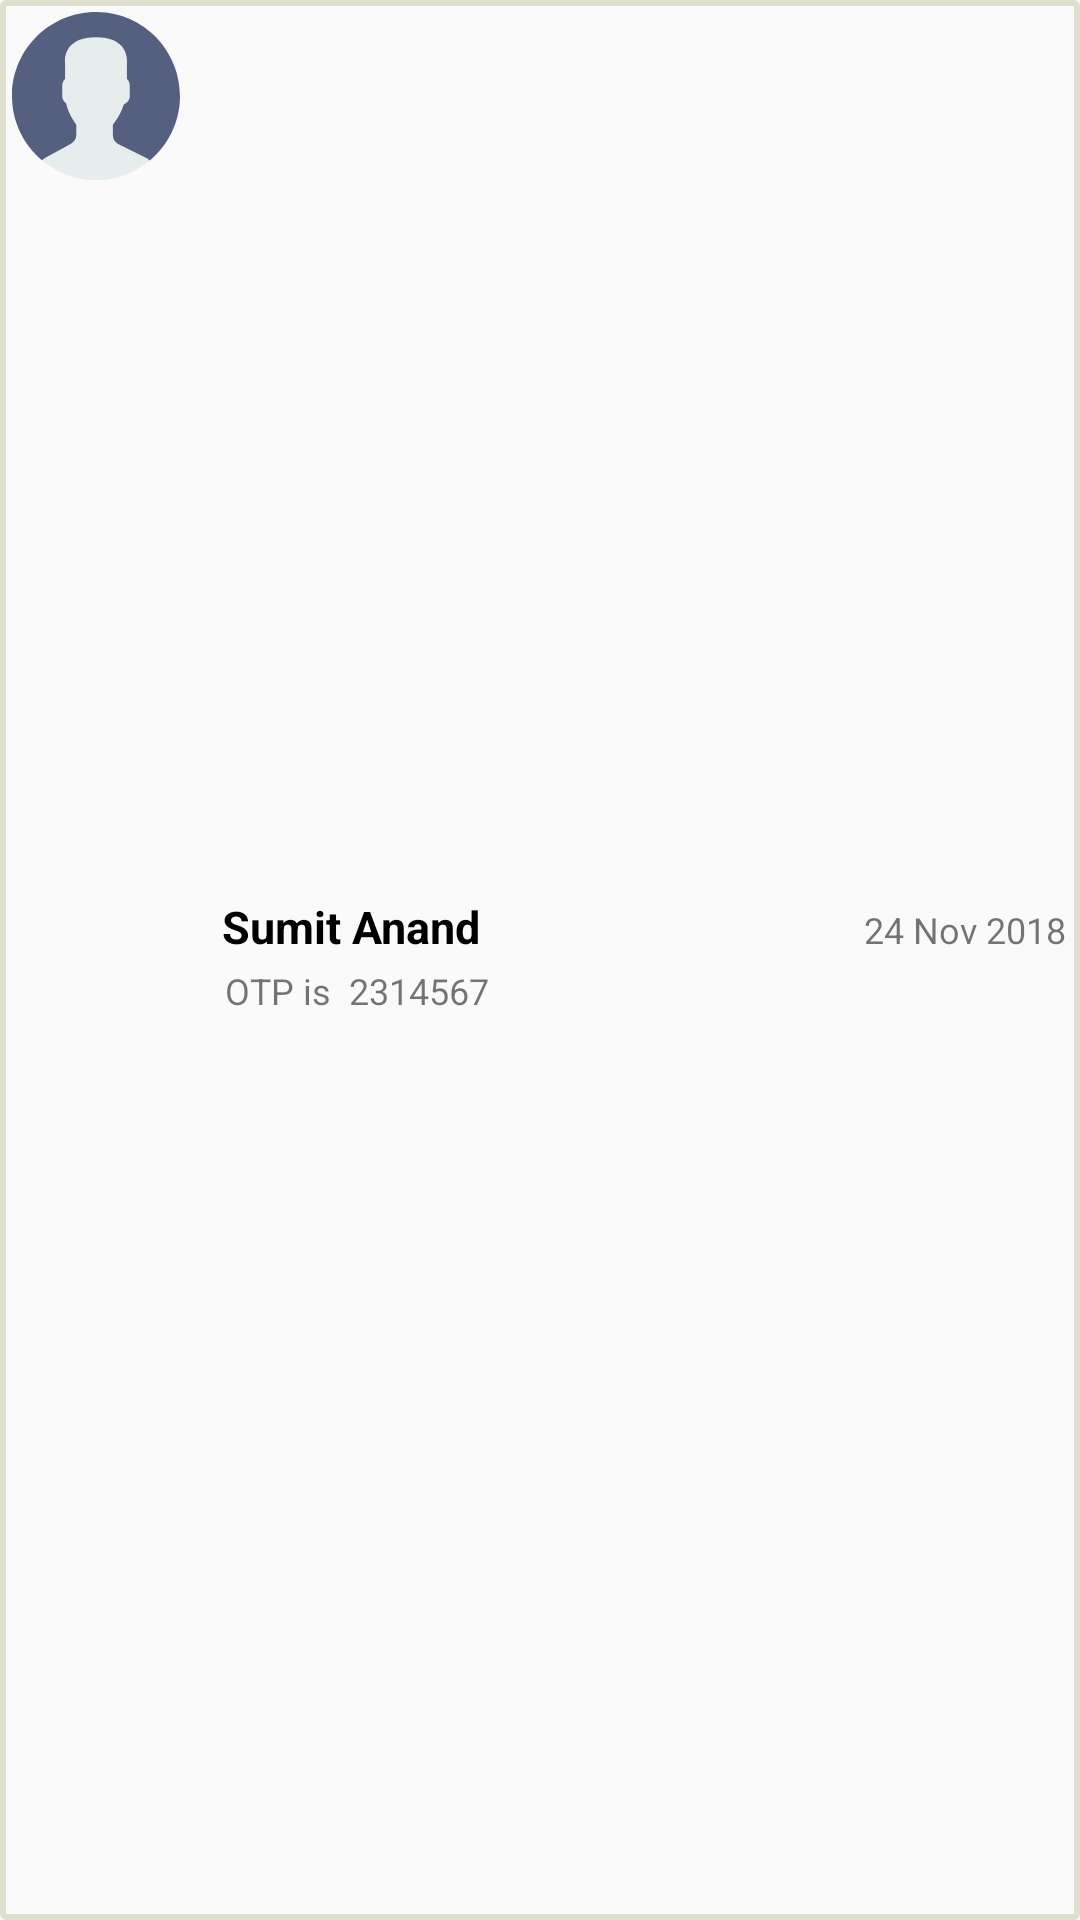

Where to tap for icons on this 1080x1920 app screen, as (x=x, y=y):
user: (x=96, y=86)
